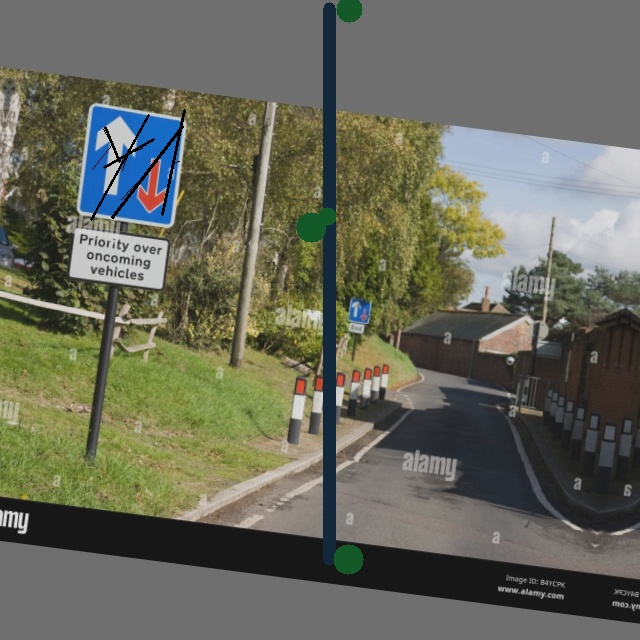Priority_for_Oncoming_Traffic: (79, 105, 188, 227)
